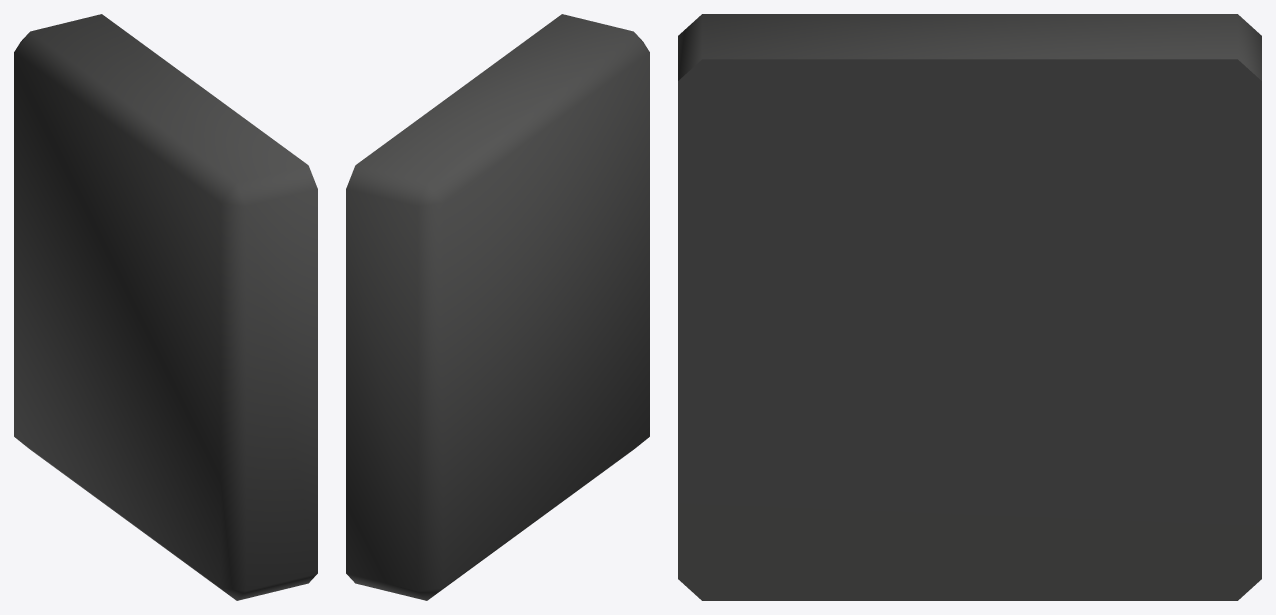
Rendered from Table_1_2.glb.
3 views of the same model, side by side, from view 1: azimuth 30°, elevation 25°; view 2: azimuth 150°, elevation 25°; view 3: azimuth 270°, elevation 25° (orthographic). The views are drawn at different scales.
Parts seen in each view (by area): view 1: Table_1_2; view 2: Table_1_2; view 3: Table_1_2.
Part boxes in pixels (left/top/right/bottom): Table_1_2: left=14, top=14, right=317, bottom=600; Table_1_2: left=346, top=14, right=649, bottom=600; Table_1_2: left=678, top=14, right=1261, bottom=600.
Size of the model in its own units: 0.0894 by 0.4067 by 0.3972.
Materials: 1 (1 with a texture image).
